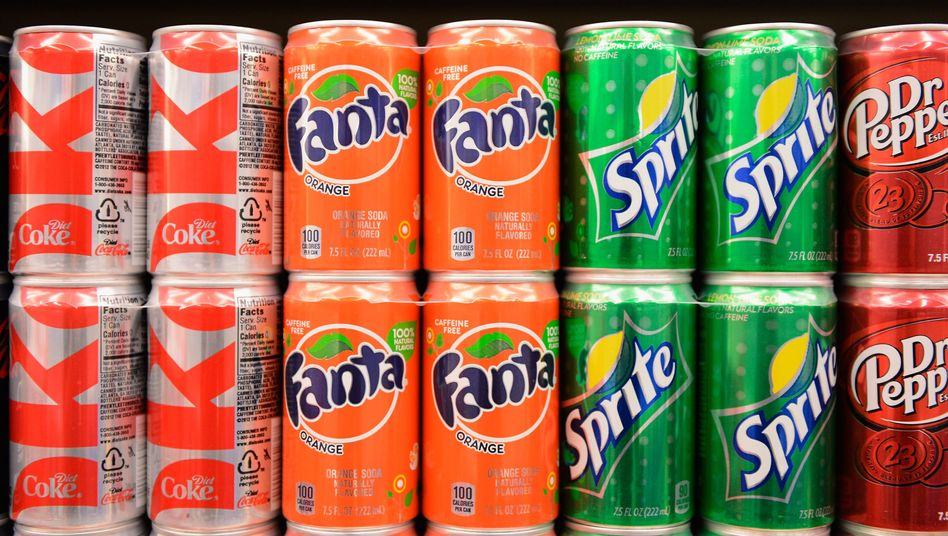dietcoke: (24, 466, 80, 506), (19, 217, 76, 250), (163, 216, 219, 249), (159, 471, 215, 502)
drpepper: (843, 334, 948, 421), (844, 74, 948, 161)
fanta: (432, 83, 555, 177), (430, 339, 554, 432), (283, 341, 406, 432), (286, 86, 407, 173)
sprite: (566, 337, 682, 489), (725, 81, 837, 238), (731, 339, 839, 499), (607, 81, 697, 236)
